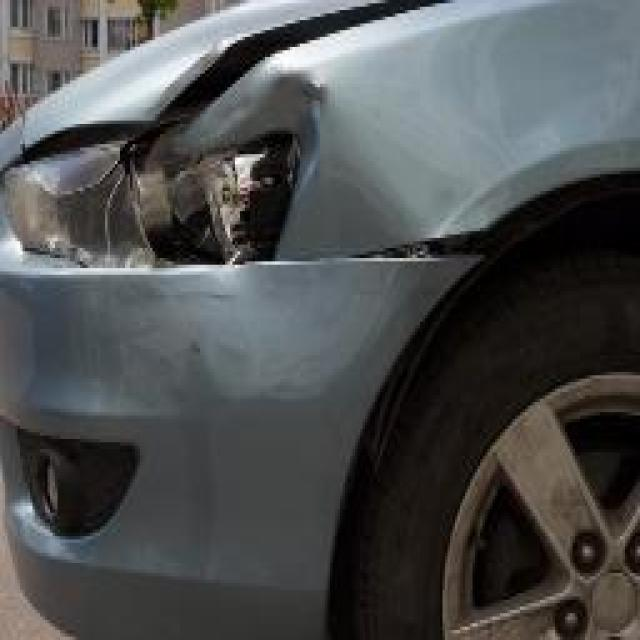Bonnet: (0, 0, 461, 173)
Fender: (207, 0, 640, 258)
Light: (14, 110, 308, 271)
